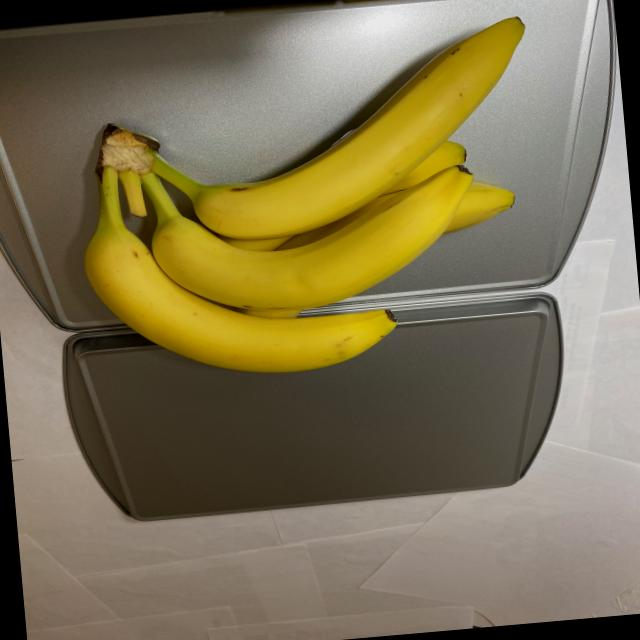banana: (61, 5, 559, 394)
